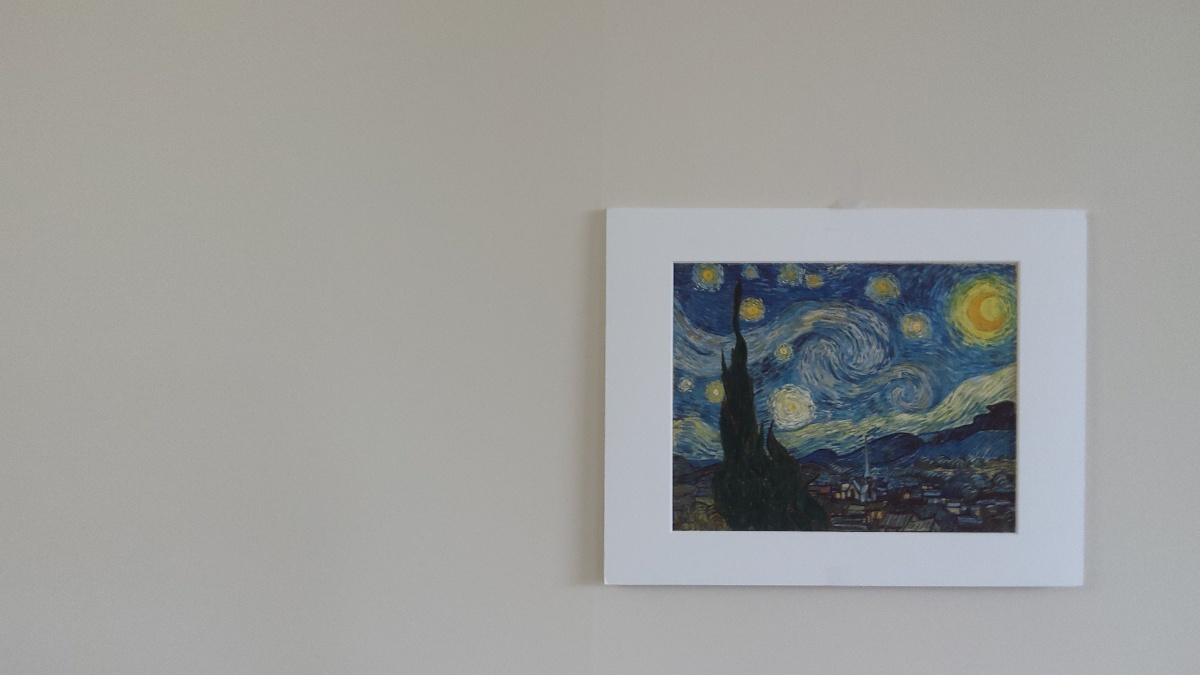painting: (667, 258, 1029, 549)
